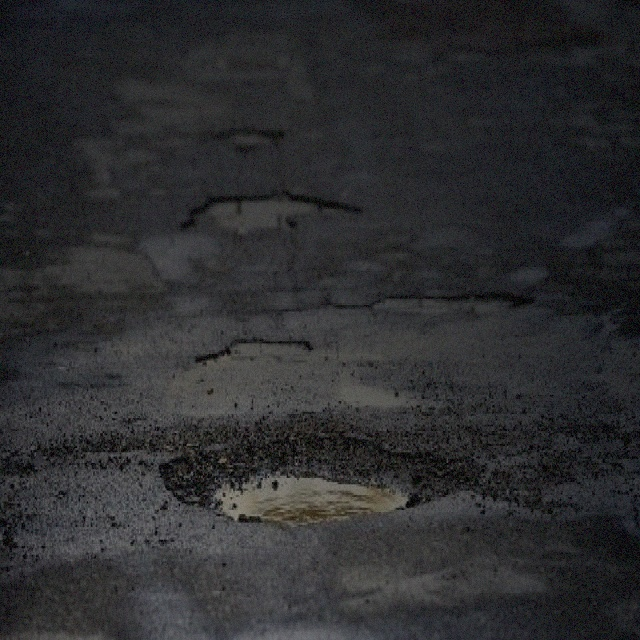pothole: (157, 426, 476, 524), (179, 190, 361, 235), (369, 286, 531, 309), (193, 337, 312, 365), (211, 124, 285, 145)
